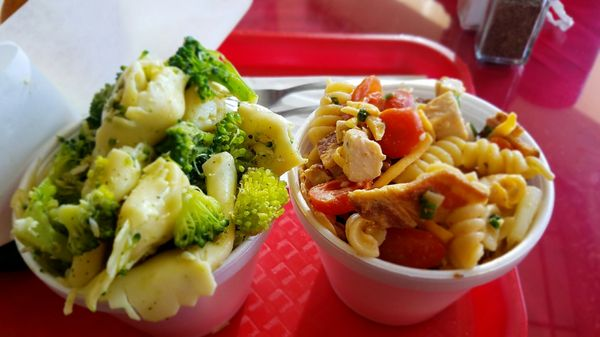curry: (7, 36, 294, 317), (232, 167, 289, 237), (173, 188, 231, 249)
pizza: (507, 0, 600, 111), (474, 1, 547, 67)
sushi: (4, 32, 293, 331), (284, 74, 556, 326)
